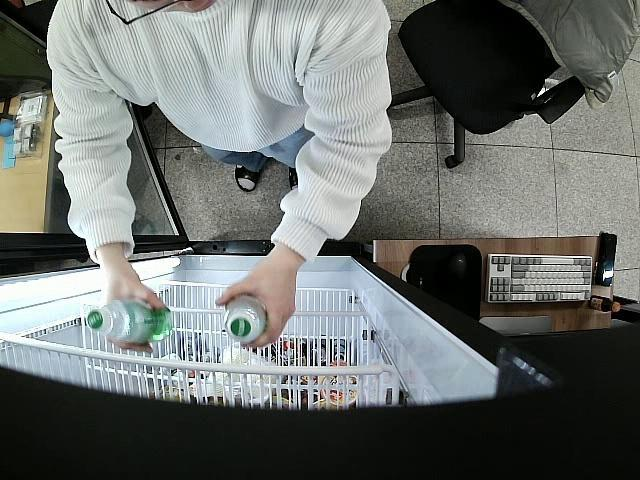18_trevi: (86, 296, 174, 344), (224, 294, 268, 342)
